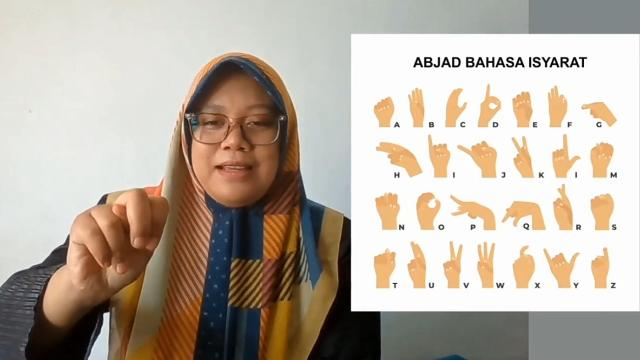N: (67, 187, 171, 306)
